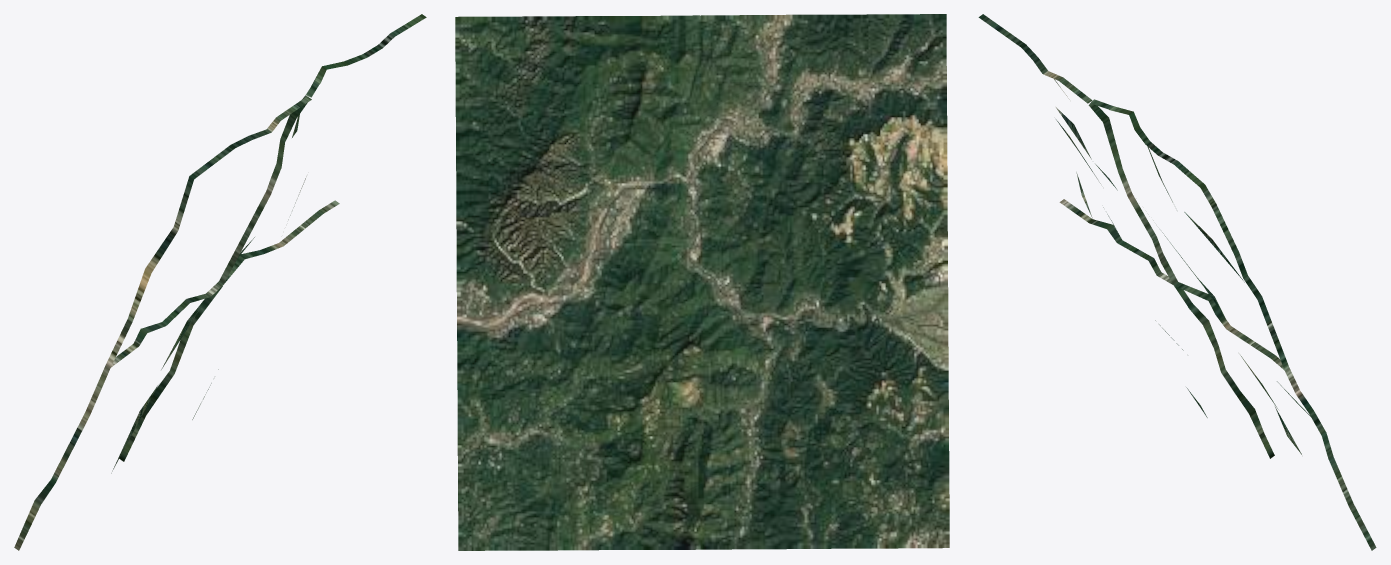
The picture shows the model from 3 angles, left to right: view 1: azimuth 30°, elevation 25°; view 2: azimuth 150°, elevation 25°; view 3: azimuth 270°, elevation 25°; orthographic projection. The views are drawn at different scales.
Bounding box in the file's own units: 19863 × 18328 × 15899.
Materials: 1 (1 with a texture image).
